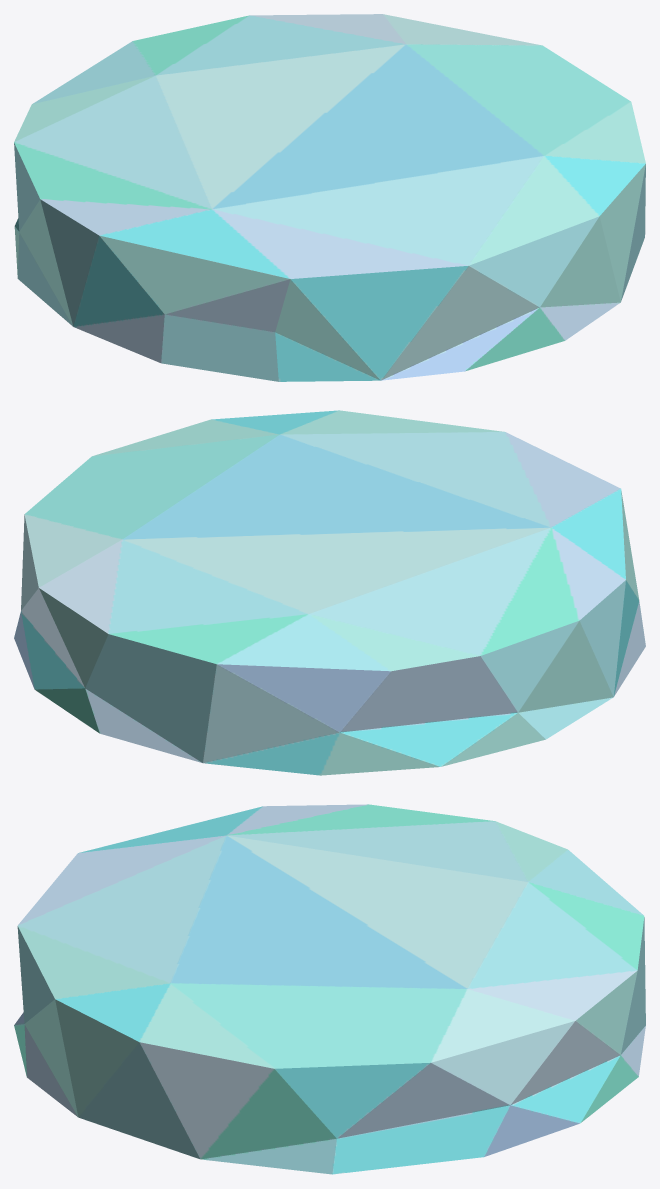
File: plataforma-gelo.fbx
3 views of the same model, one above another, from view 1: azimuth 30°, elevation 25°; view 2: azimuth 150°, elevation 25°; view 3: azimuth 270°, elevation 25° (orthographic).
Parts seen in each view (by area): view 1: plataforma-gelo; view 2: plataforma-gelo; view 3: plataforma-gelo.
Part boxes in pixels (bbox=[...]): plataforma-gelo: bbox=[14, 14, 645, 381]; plataforma-gelo: bbox=[14, 410, 645, 775]; plataforma-gelo: bbox=[14, 804, 645, 1174].
Bounding box in the file's own units: 762 × 158 × 756.
